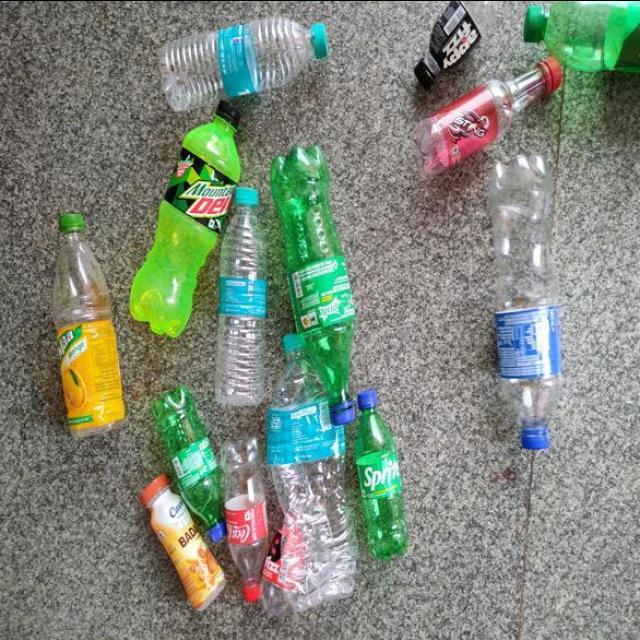plastik: (130, 100, 240, 336), (266, 332, 357, 609), (270, 144, 355, 424), (490, 155, 563, 448), (414, 57, 562, 174), (53, 212, 125, 435), (160, 16, 328, 110), (153, 384, 226, 541), (141, 473, 225, 609), (216, 186, 267, 405), (355, 388, 407, 560), (523, 0, 640, 71), (221, 436, 270, 601), (414, 0, 498, 87)
